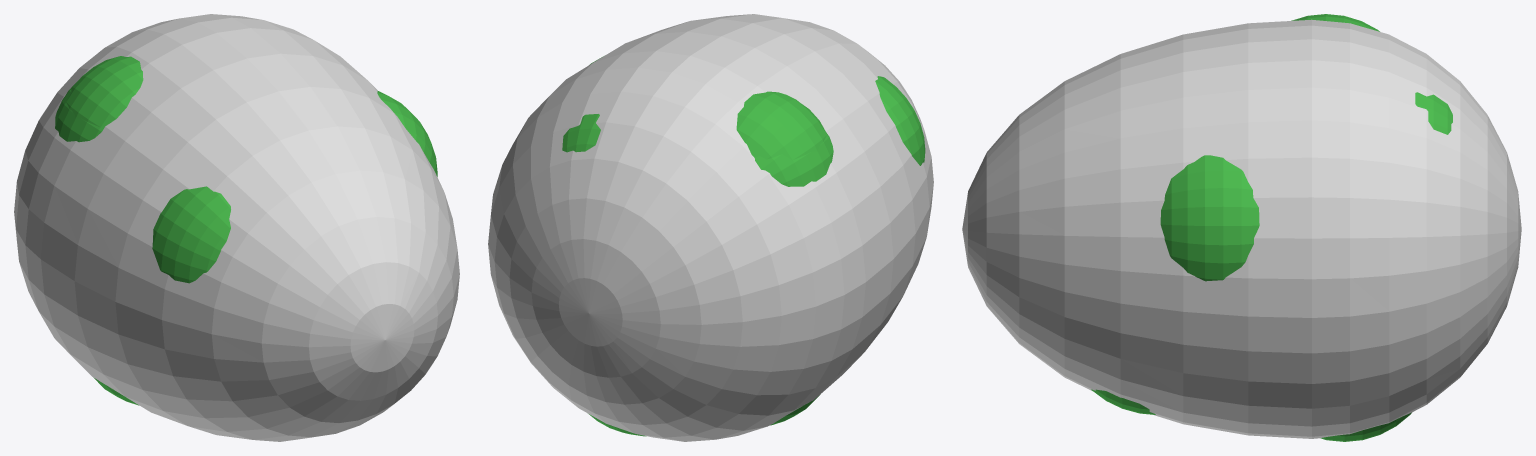
Rendered from tinker.obj.
The picture shows the model from 3 angles, left to right: view 1: azimuth 30°, elevation 25°; view 2: azimuth 150°, elevation 25°; view 3: azimuth 270°, elevation 25°; orthographic projection. The views are drawn at different scales.
Visible parts, largest first — view 1: group_0_-1, group_0_-12142775; view 2: group_0_-1, group_0_-12142775; view 3: group_0_-1, group_0_-12142775.
Boxes of the visible parts, x1,y1,x2,y2 form: group_0_-1: (14,14,459,441); group_0_-12142775: (55,56,437,405); group_0_-1: (488,14,933,441); group_0_-12142775: (562,56,925,436); group_0_-1: (962,19,1521,438); group_0_-12142775: (1091,14,1452,441).
Bounding box in the file's own units: 45 × 45 × 60.
